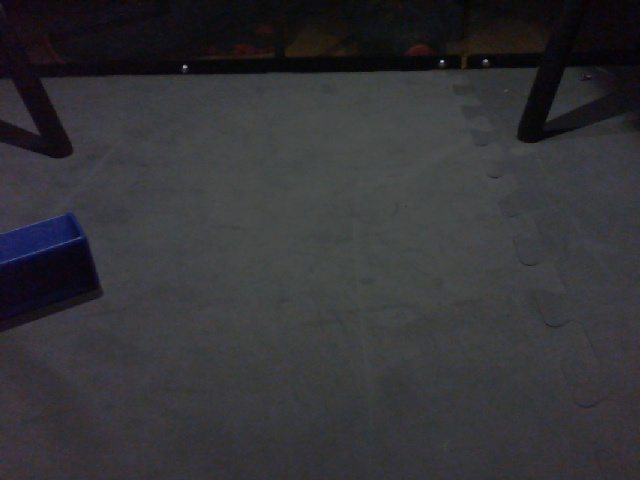BlueSample: (1, 210, 104, 318)
